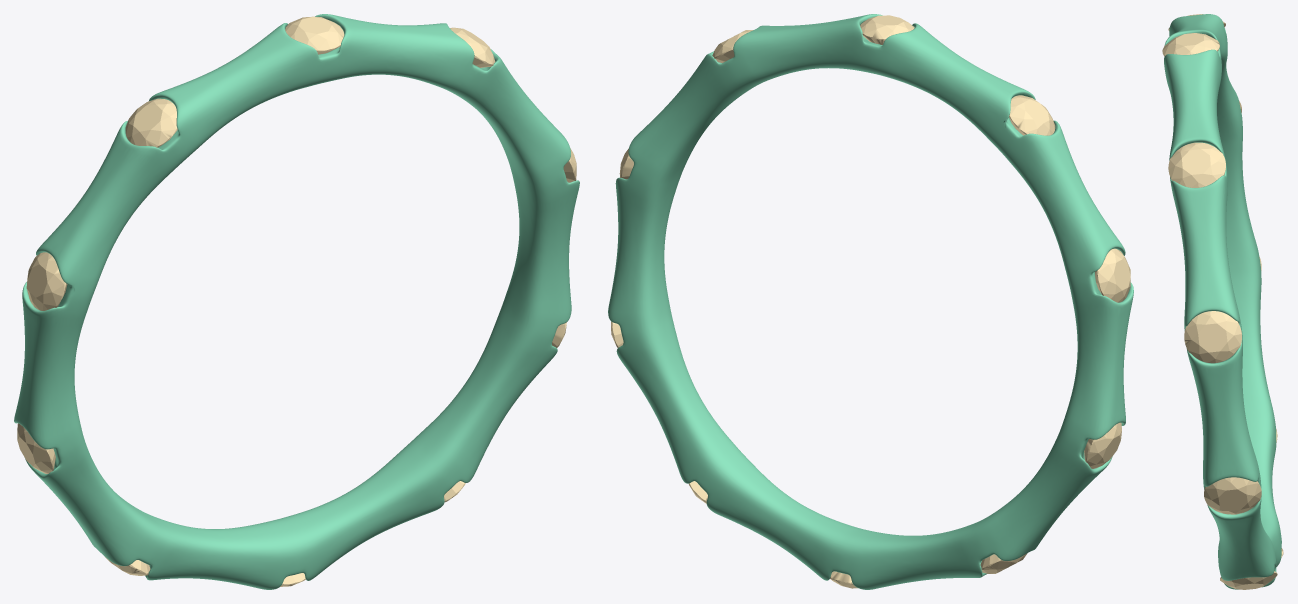
The picture shows the model from 3 angles, left to right: view 1: azimuth 30°, elevation 25°; view 2: azimuth 150°, elevation 25°; view 3: azimuth 270°, elevation 25°; orthographic projection. The views are drawn at different scales.
Visible parts, largest first — view 1: Metal02, Diamond_Round.006, Diamond_Round.005, Diamond_Round.009, Diamond_Round.007, Diamond_Round.001; view 2: Metal02, Diamond_Round.006, Diamond_Round.005, Diamond_Round.007, Diamond_Round.009; view 3: Metal02, Diamond_Round.002, Diamond_Round.001, Diamond_Round.008, Diamond_Round.009, Diamond_Round.003.
Boxes of the visible parts, box(x1,y1,x2,y2) form: Metal02: box(14, 14, 579, 589); Diamond_Round.006: box(125, 98, 177, 147); Diamond_Round.005: box(26, 252, 67, 310); Diamond_Round.009: box(285, 16, 344, 54); Diamond_Round.007: box(17, 423, 55, 473); Diamond_Round.001: box(450, 27, 495, 67); Metal02: box(608, 14, 1133, 589); Diamond_Round.006: box(1009, 95, 1055, 135); Diamond_Round.005: box(1095, 248, 1130, 302); Diamond_Round.007: box(1084, 422, 1121, 468); Diamond_Round.009: box(860, 15, 914, 44); Metal02: box(1164, 14, 1281, 589); Diamond_Round.002: box(1184, 311, 1241, 363); Diamond_Round.001: box(1168, 142, 1225, 187); Diamond_Round.008: box(1204, 477, 1261, 514); Diamond_Round.009: box(1162, 33, 1219, 56); Diamond_Round.003: box(1220, 571, 1277, 589).
Bounding box in the file's own units: 19.57 × 20.15 × 4.19.
